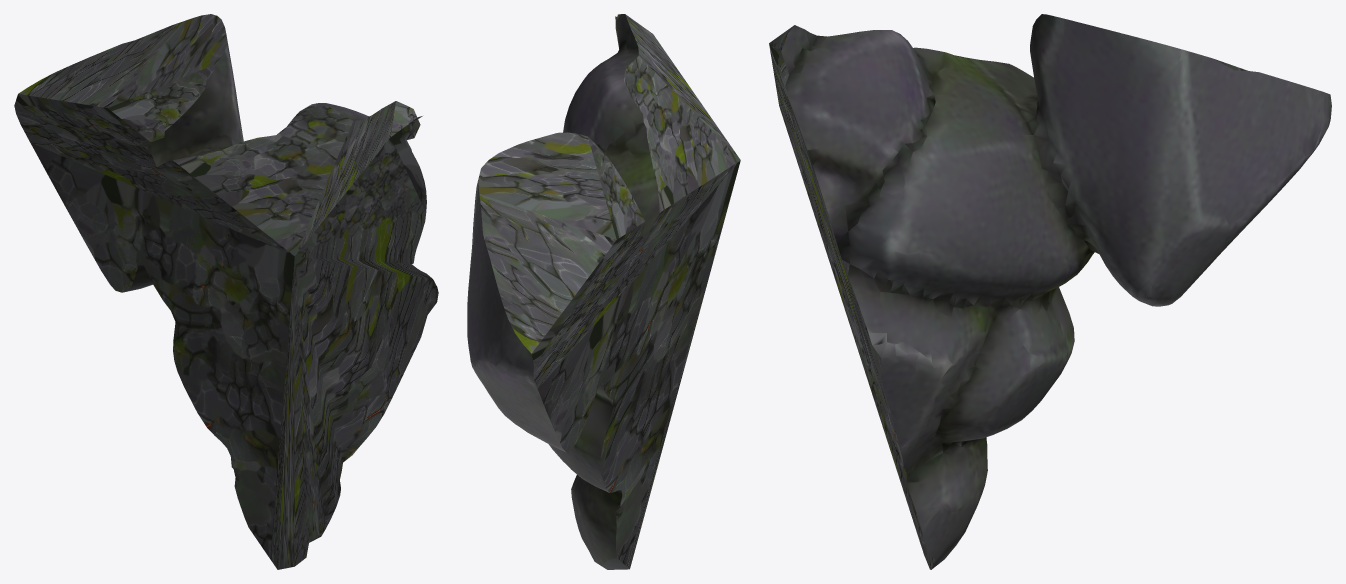
Rendered from Frag_19.gltf.
3 renders of one model, left to right at view 1: azimuth 30°, elevation 25°; view 2: azimuth 150°, elevation 25°; view 3: azimuth 270°, elevation 25°, orthographic. The views are drawn at different scales.
Parts seen in each view (by area): view 1: Frag_19; view 2: Frag_19; view 3: Frag_19.
Boxes of the visible parts, <box> form: Frag_19: <box>14,14,438,569</box>; Frag_19: <box>467,14,740,569</box>; Frag_19: <box>769,14,1331,569</box>.
Size of the model in its own units: 0.1676 by 0.3623 by 0.3255.
Materials: 1 (1 with a texture image).
